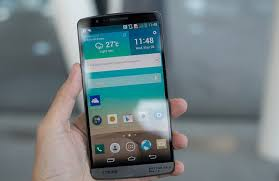lg: (71, 9, 175, 181)
